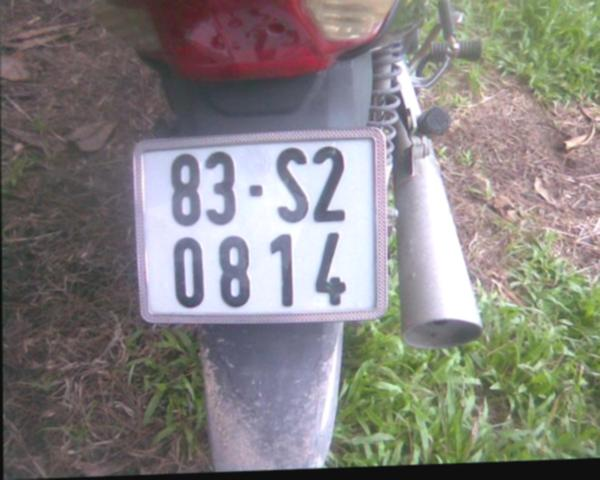License_Plate: (134, 129, 390, 333)
